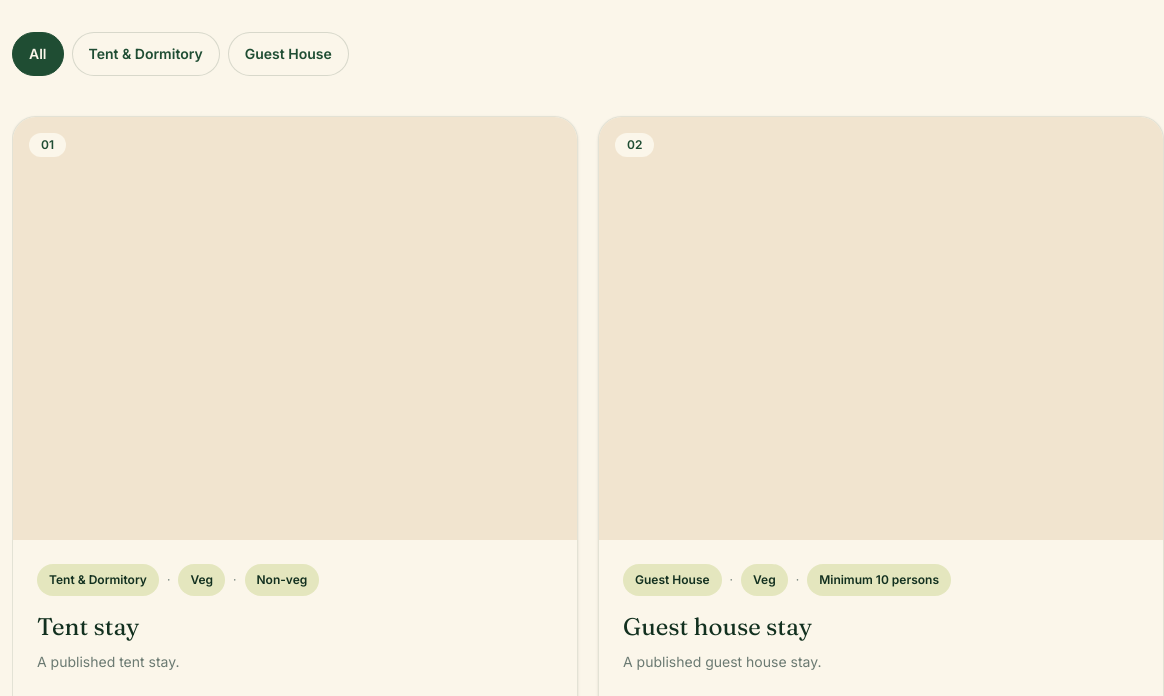
Test: stay cards › filters cards with data-derived categories
Click the button "Guest House".
click(288, 54)  # box top-left (228, 32), bottom-right (349, 76)
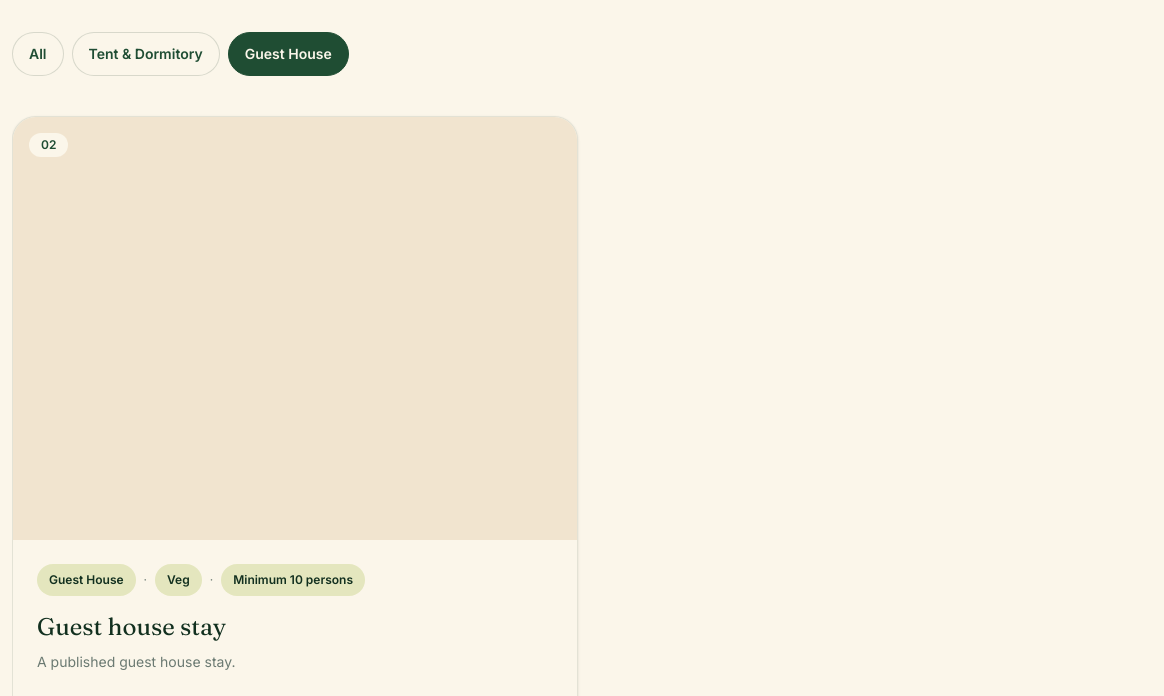
Check: the heading "Guest house stay" is shown, box top-left (37, 612), bottom-right (226, 641)
Check: the link "Tent stay" is gone
